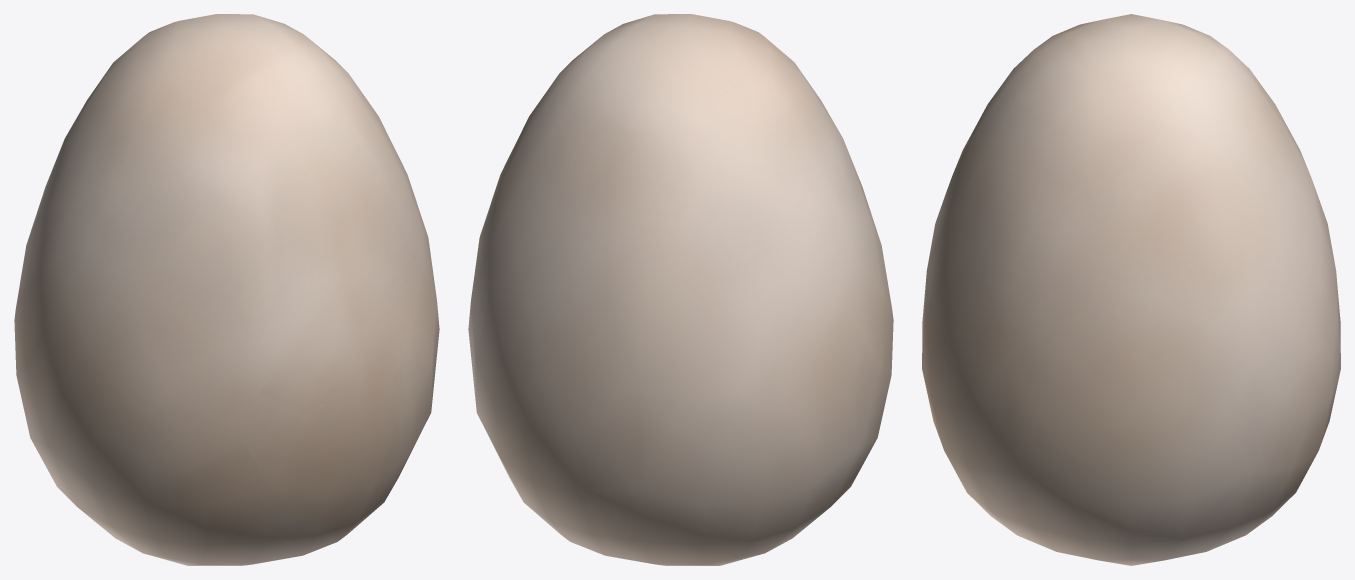
The model's file is Egg.fbx.
The picture shows the model from 3 angles, left to right: view 1: azimuth 30°, elevation 25°; view 2: azimuth 150°, elevation 25°; view 3: azimuth 270°, elevation 25°; orthographic projection.
Parts seen in each view (by area): view 1: Icosphere; view 2: Icosphere; view 3: Icosphere.
Boxes of the visible parts, bbox=[...] form: Icosphere: bbox=[14, 14, 439, 565]; Icosphere: bbox=[468, 14, 893, 565]; Icosphere: bbox=[922, 14, 1340, 565].
Bounding box in the file's own units: 0.1919 × 0.2584 × 0.1911.
